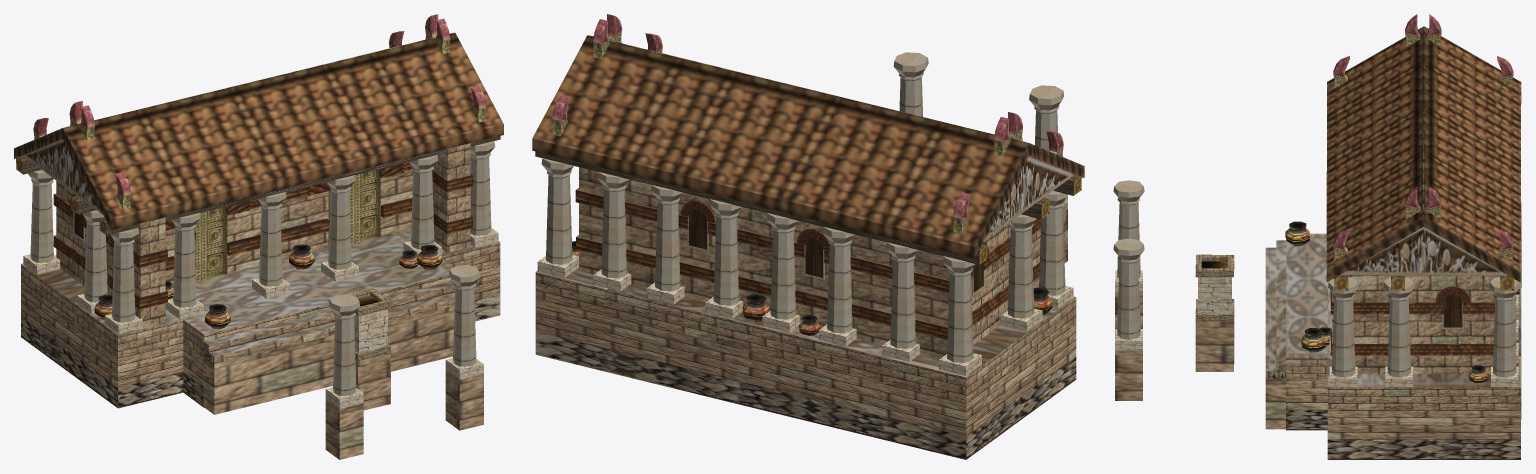
File: temple.dae
The picture shows the model from 3 angles, left to right: view 1: azimuth 30°, elevation 25°; view 2: azimuth 150°, elevation 25°; view 3: azimuth 270°, elevation 25°; orthographic projection. The views are drawn at different scales.
Visible parts, largest first — view 1: temple; view 2: temple; view 3: temple.
Boxes of the visible parts, x1=… form: temple: x1=14, y1=14, x2=503, y2=459; temple: x1=532, y1=14, x2=1084, y2=459; temple: x1=1113, y1=14, x2=1521, y2=459.
Size of the model in its own units: 26.49 by 23.92 by 17.19.
